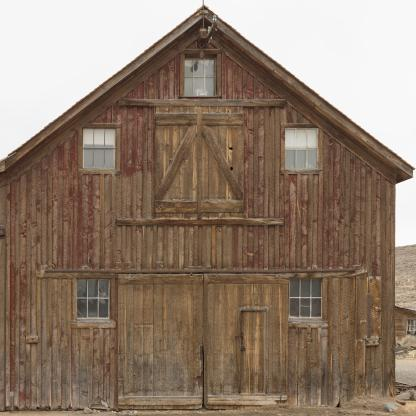Building Outline: (0, 4, 415, 410)
Door: (118, 274, 289, 409)
Facade: (71, 107, 335, 409)
Floor Slab: (0, 242, 395, 249)
Ground Floor: (0, 249, 395, 409)
Top Floor: (0, 22, 396, 242)
Window: (154, 106, 244, 219), (285, 128, 318, 169), (289, 278, 322, 319), (77, 279, 110, 320), (185, 54, 217, 96), (83, 128, 116, 168)
